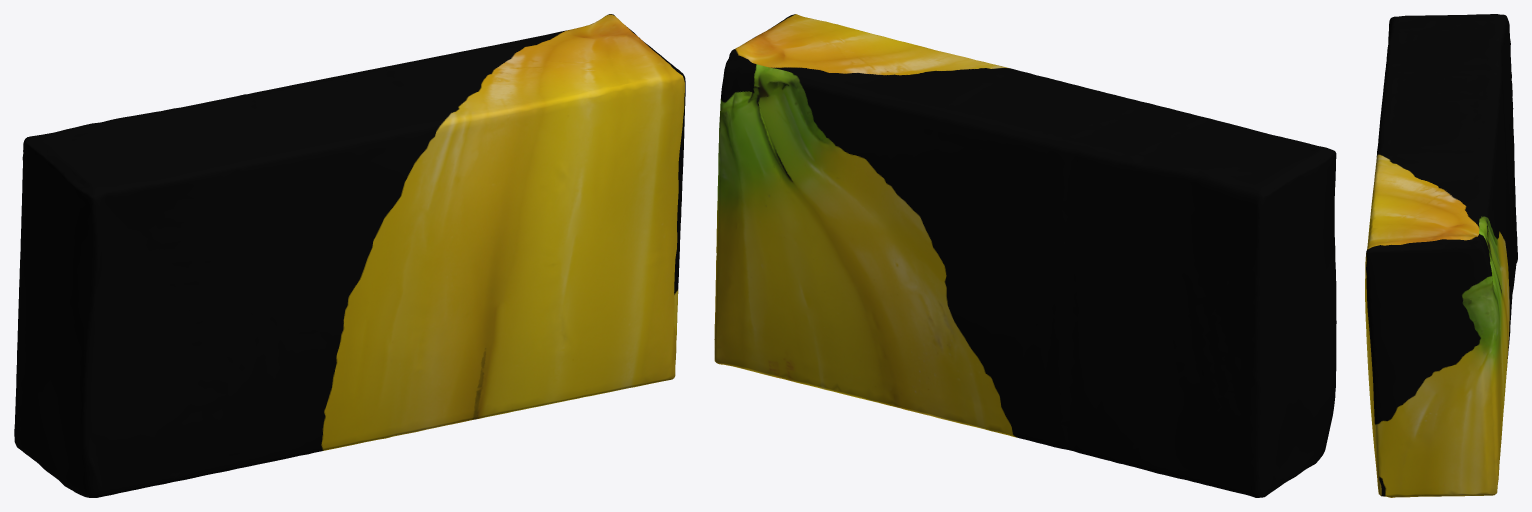
Rendered from model_com.obj.
3 views of the same model, side by side, from view 1: azimuth 30°, elevation 25°; view 2: azimuth 150°, elevation 25°; view 3: azimuth 270°, elevation 25° (orthographic). The views are drawn at different scales.
Bounding box in the file's own units: 0.176 × 0.0942 × 0.0495.
